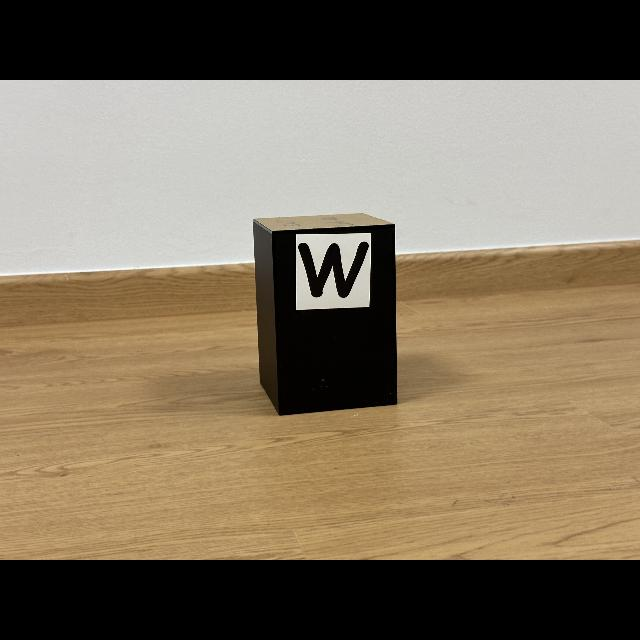W: (299, 241, 369, 298)
